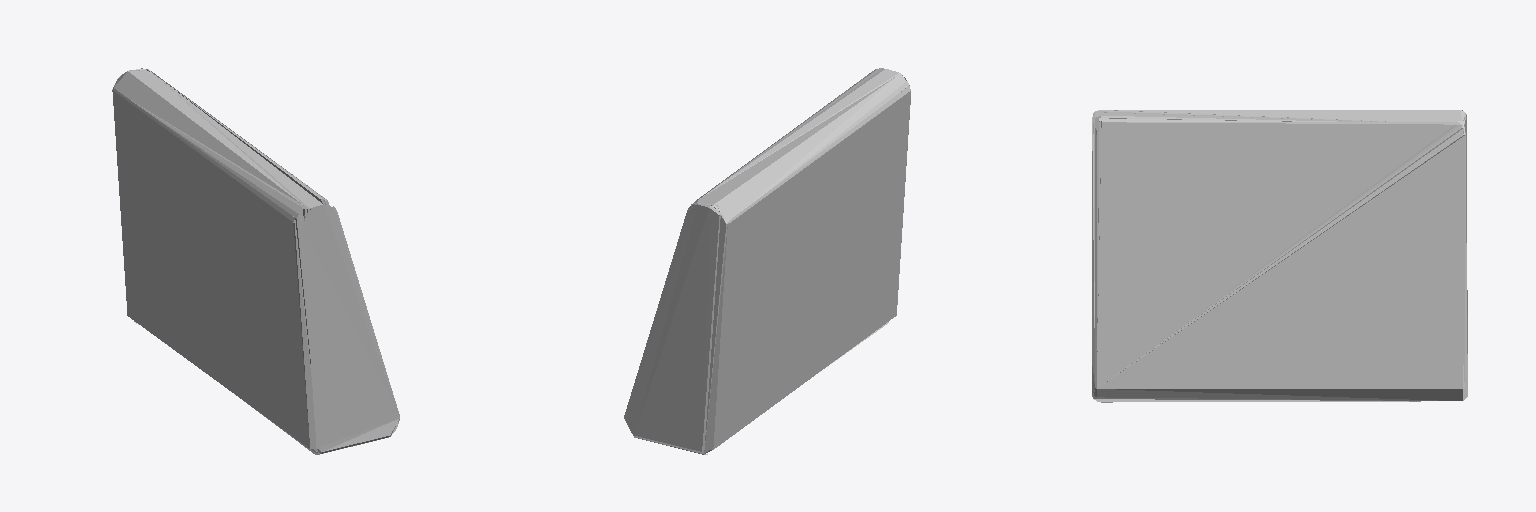
The model's file is left_backseat.obj.
The picture shows the model from 3 angles: view 1: azimuth 30°, elevation 25°; view 2: azimuth 150°, elevation 25°; view 3: azimuth 270°, elevation 25°; orthographic projection.
Visible parts, largest first — view 1: left_backseat_mesh11.005_mesh11-geometry; view 2: left_backseat_mesh11.005_mesh11-geometry; view 3: left_backseat_mesh11.005_mesh11-geometry.
Part boxes in pixels (left/top/right/bottom): left_backseat_mesh11.005_mesh11-geometry: left=112, top=68, right=399, bottom=454; left_backseat_mesh11.005_mesh11-geometry: left=624, top=68, right=910, bottom=454; left_backseat_mesh11.005_mesh11-geometry: left=1092, top=110, right=1467, bottom=402.
Size of the model in its own units: 0.0907 by 0.2102 by 0.2792.